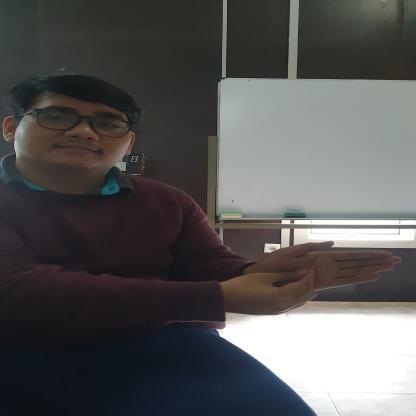Nama: (234, 238, 402, 317)
